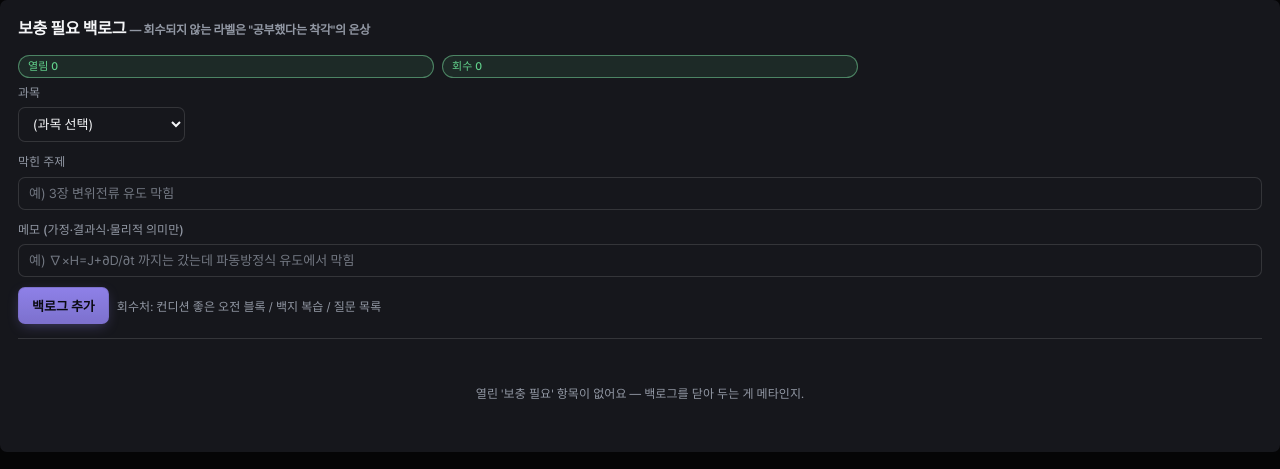
Scenario: 한 줄 칸의 맨 Enter 제출은 그대로다 — 기존 계약 회귀
The image size is (1280, 469).
Type "경계조건 법선성분" into the field labelled "막힌 주제" at (640, 193), box 18,177 -> 1262,210
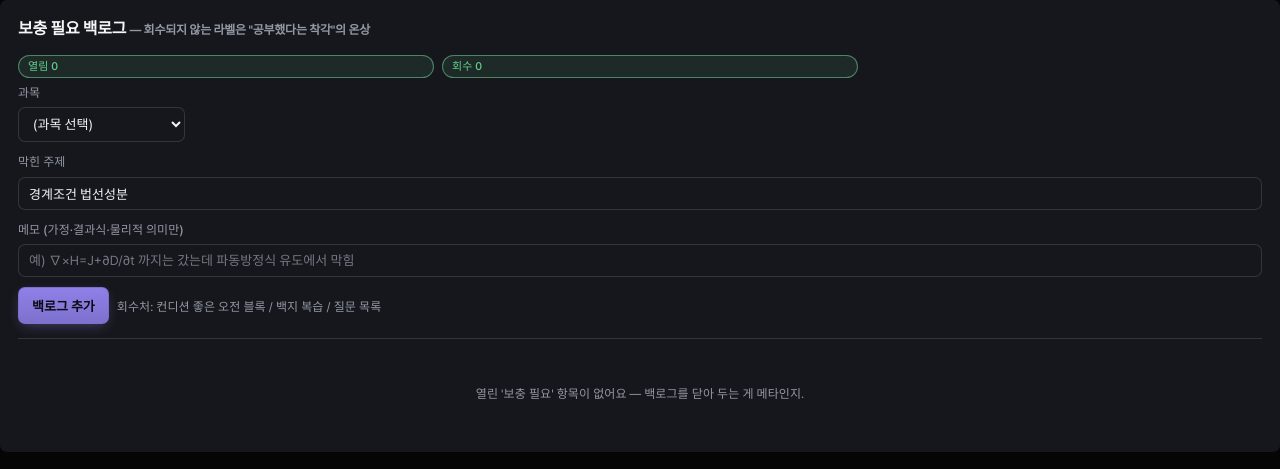
Press Enter in the field labelled "막힌 주제", box 18,177 -> 1262,210
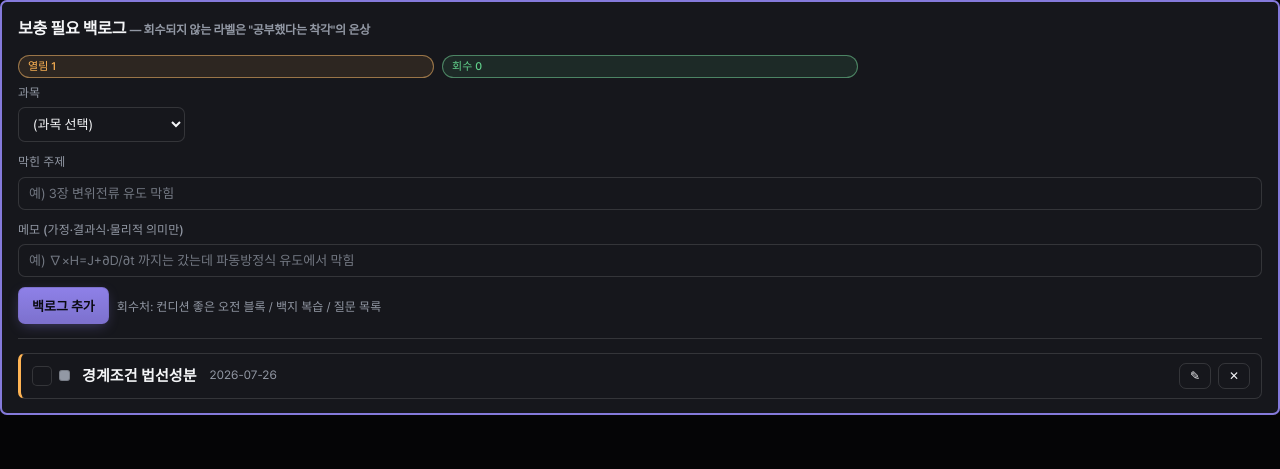
Result: the text "경계조건 법선성분" is shown at 82,364 -> 196,388
